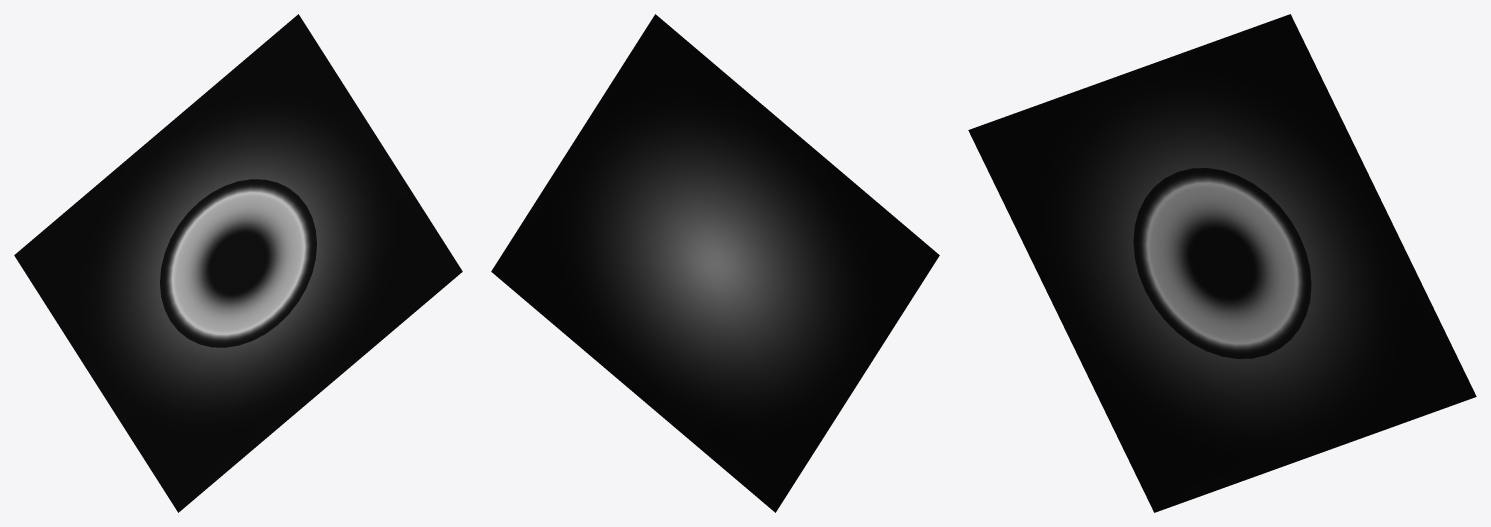
File: pref_fxui_common_click.fbx
The picture shows the model from 3 angles, left to right: view 1: azimuth 30°, elevation 25°; view 2: azimuth 150°, elevation 25°; view 3: azimuth 330°, elevation 25°; orthographic projection. The views are drawn at different scales.
Parts seen in each view (by area): view 1: ring02, ring01; view 2: ring02; view 3: ring02, ring01.
Part boxes in pixels (left/top/right/bottom): ring02: left=14, top=14, right=462, bottom=512; ring01: left=160, top=179, right=316, bottom=347; ring02: left=491, top=14, right=939, bottom=512; ring02: left=968, top=14, right=1476, bottom=512; ring01: left=1133, top=168, right=1311, bottom=358.
Bounding box in the file's own units: 347 × 347 × 0.000151.
2 materials, 2 textured.
